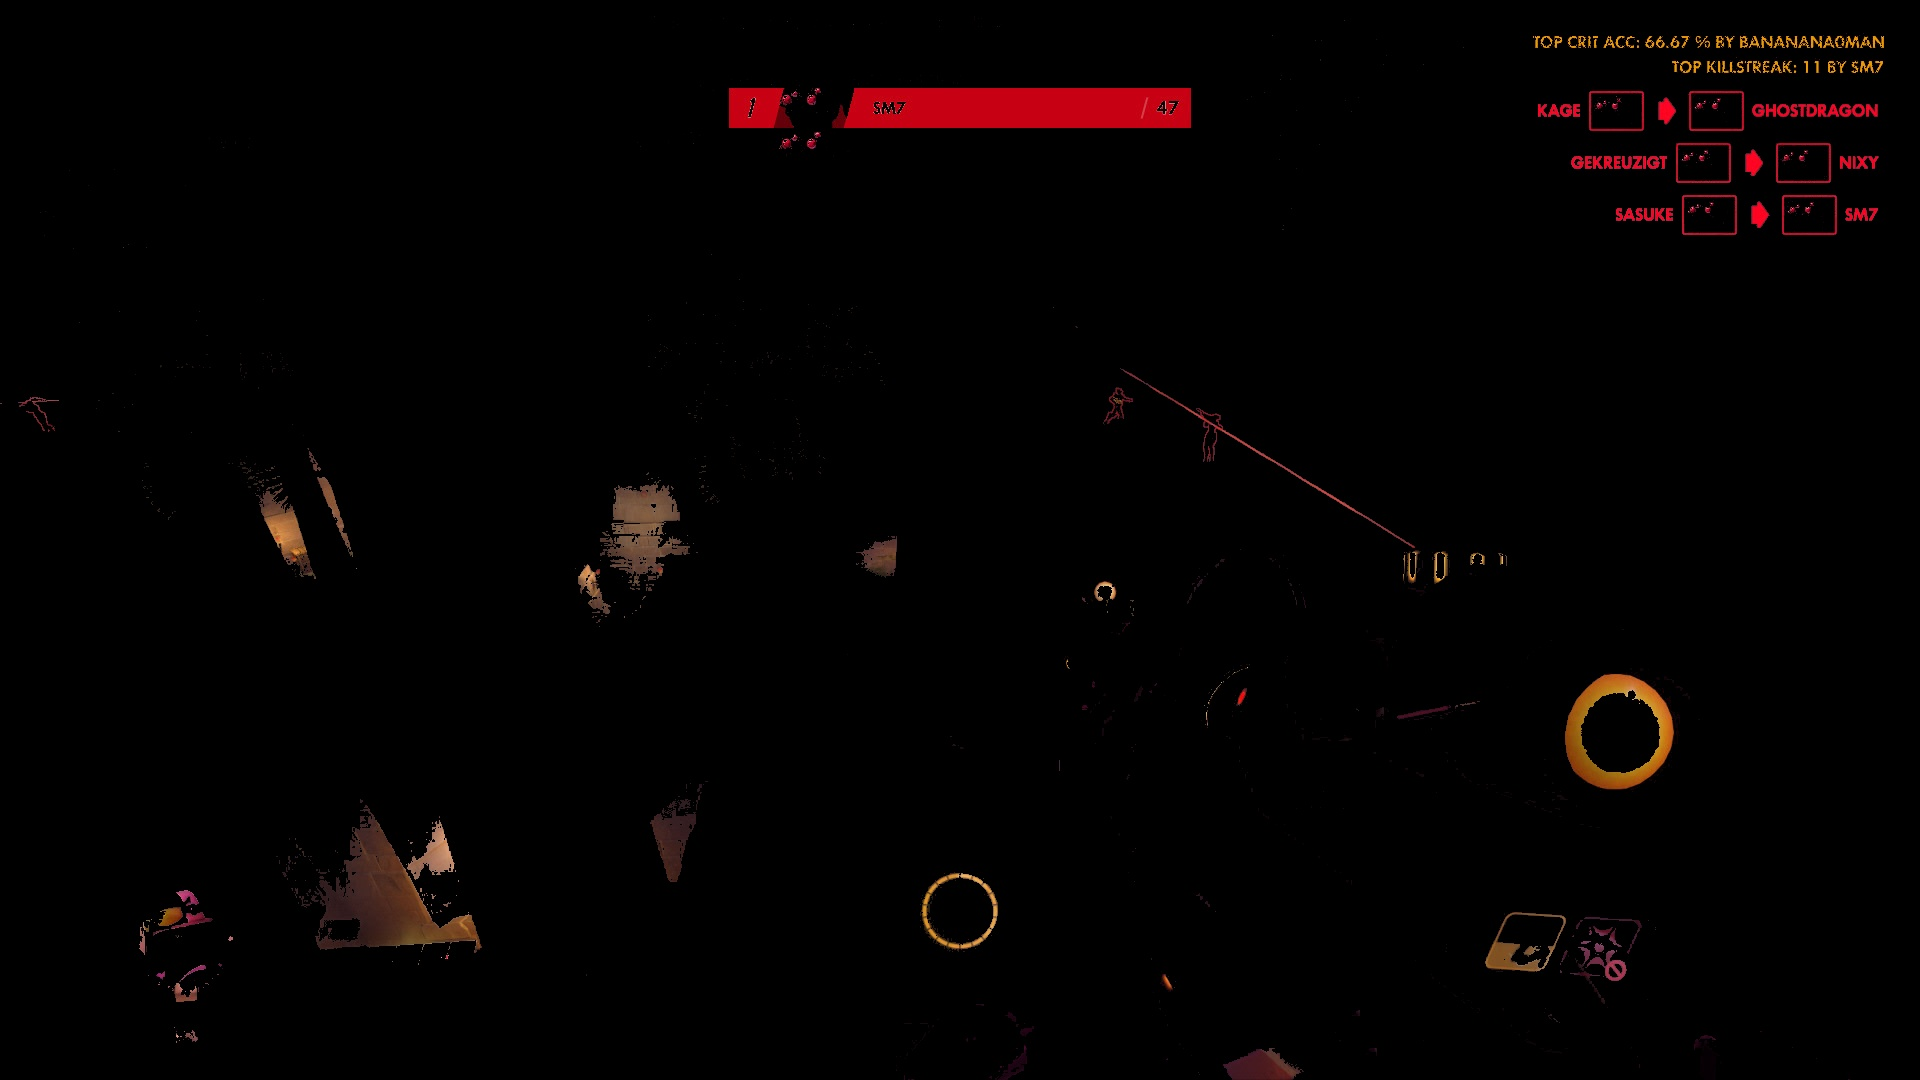widowmaker: (1192, 404, 1229, 473), (1102, 382, 1134, 429)
